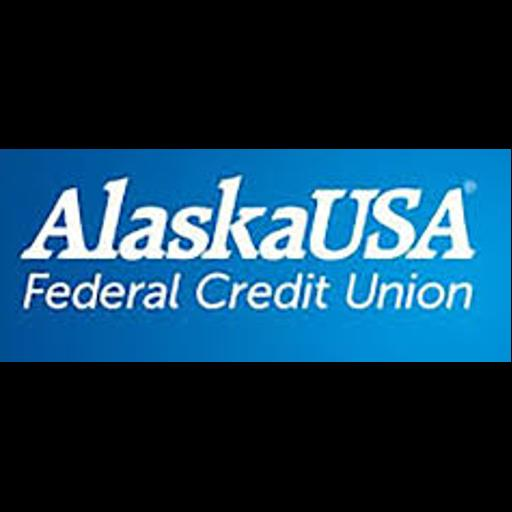Alaska USA Federal Credit Union: (0, 149, 511, 362)
